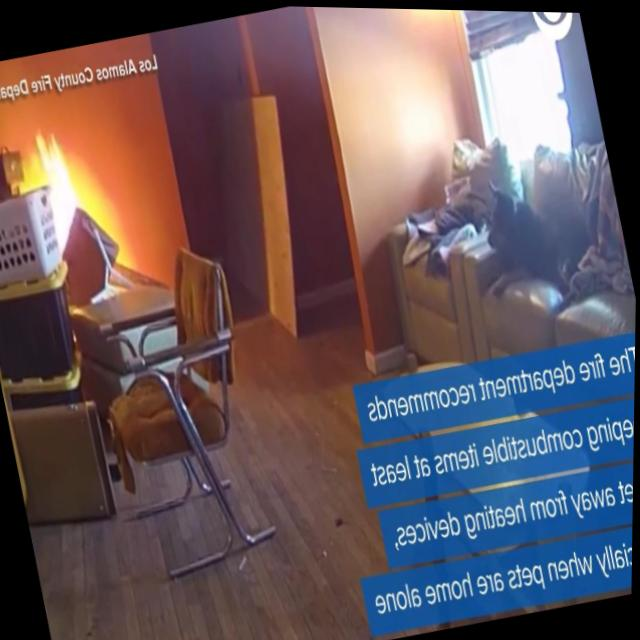fire: (17, 115, 128, 272)
